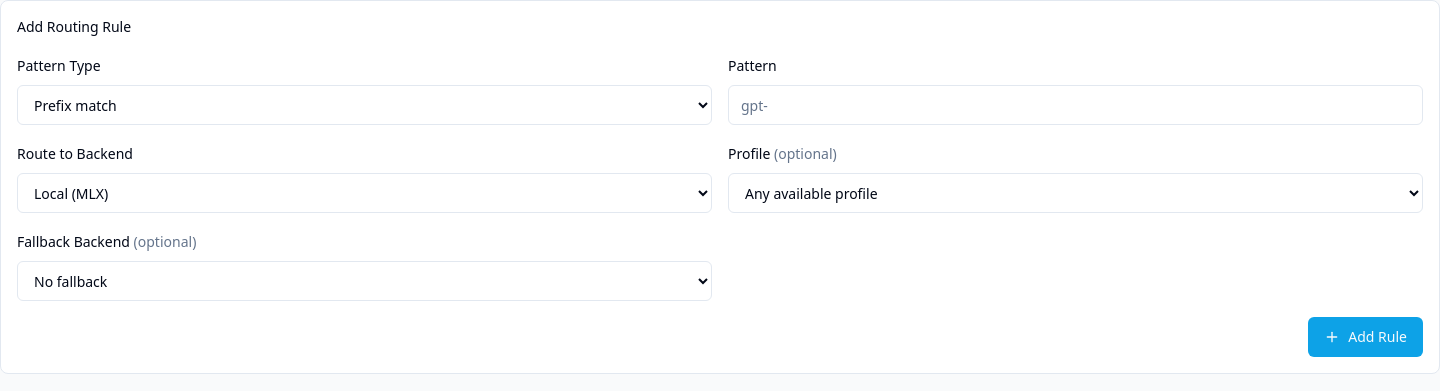
Test: RuleForm › pattern type selection › updates placeholder when changing to exact match
Select "Exact match" in the dropdown labelled "Pattern Type" at (364, 105), box [17, 85, 712, 125]
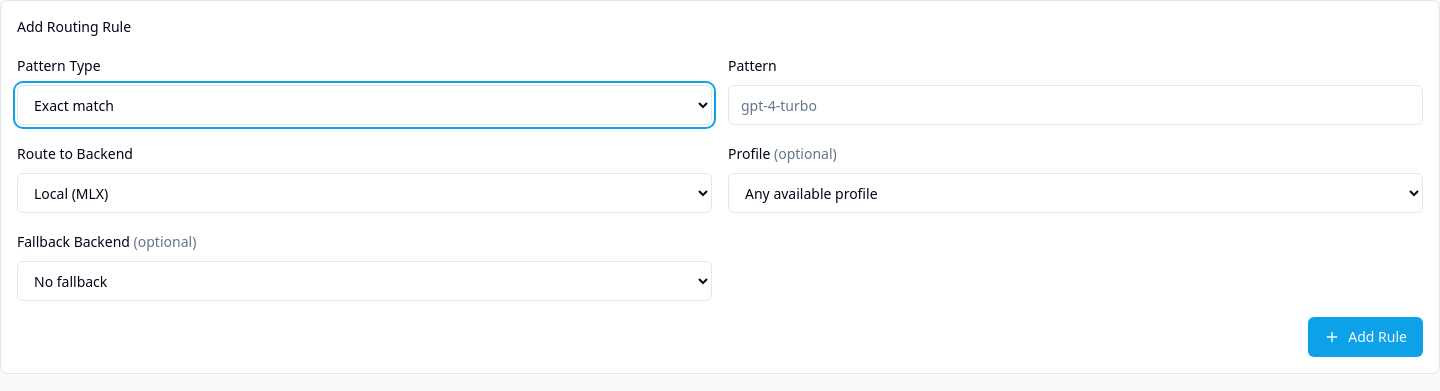
Result: the field with placeholder "gpt-4-turbo" is shown at [728, 85, 1423, 125]
